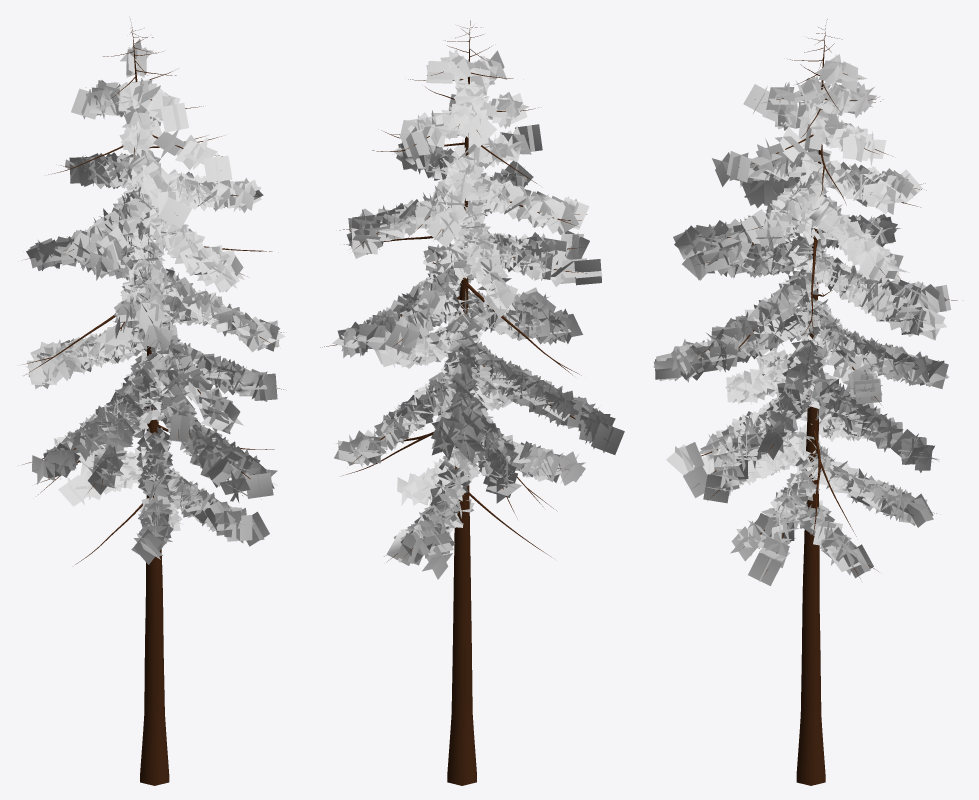
The model's file is Tree_3.fbx.
3 renders of one model, left to right at view 1: azimuth 30°, elevation 25°; view 2: azimuth 150°, elevation 25°; view 3: azimuth 270°, elevation 25°, orthographic. The views are drawn at different scales.
Parts seen in each view (by area): view 1: Leaves_3, Truhnk_3; view 2: Leaves_3, Truhnk_3; view 3: Leaves_3, Truhnk_3.
Part boxes in pixels (left/top/right/bottom): Leaves_3: left=26, top=39, right=285, bottom=564; Truhnk_3: left=22, top=19, right=283, bottom=785; Leaves_3: left=332, top=49, right=624, bottom=579; Truhnk_3: left=320, top=20, right=609, bottom=785; Leaves_3: left=653, top=54, right=951, bottom=585; Truhnk_3: left=665, top=19, right=957, bottom=785.
Size of the model in its own units: 1046 by 2860 by 1068.
